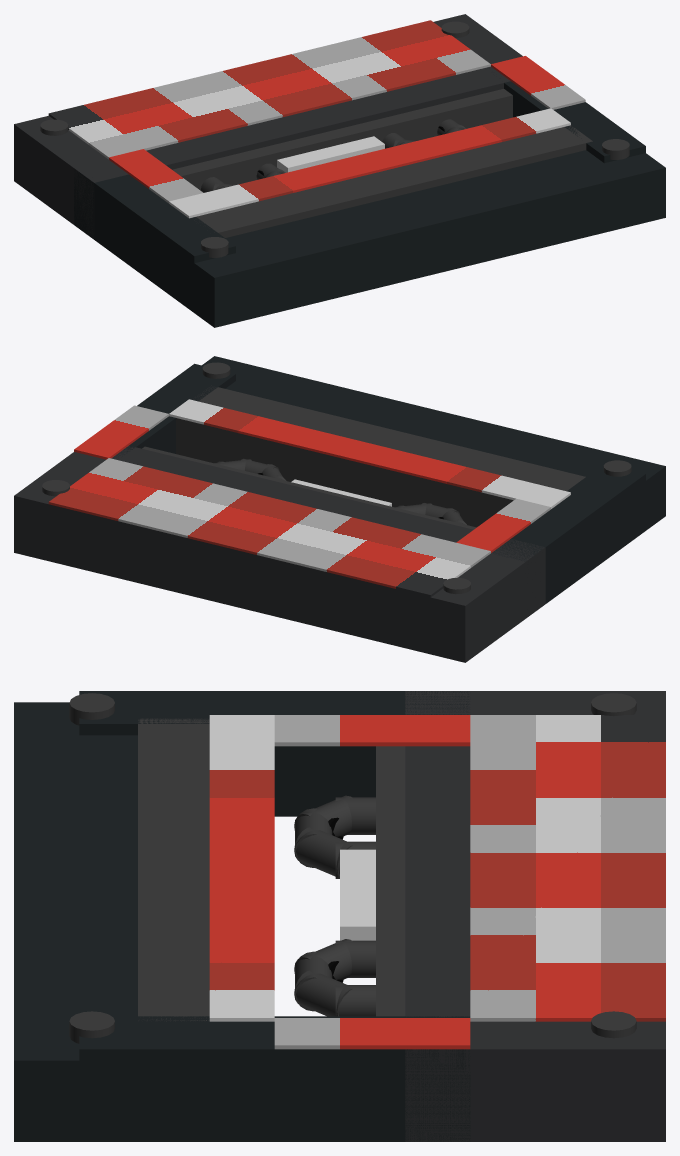
File: CMU3DHandAU14CassetteTapeRisingSunCloud.glb
3 renders of one model, top to bottom at view 1: azimuth 30°, elevation 25°; view 2: azimuth 150°, elevation 25°; view 3: azimuth 270°, elevation 25°, orthographic. The views are drawn at different scales.
Parts seen in each view (by area): view 1: cassette lower shell, original RisingSunLabelTop, cassette upper shell, cassette center lower rail, cassette left wall, original RisingSunLabelBottom, cassette center upper rail, cassette right wall, original RisingSunLabelRight, original RisingSunLabelLeft, tape bridge strip, cassette corner screw 9.7-20.8 (+1 smaller); view 2: cassette upper shell, original RisingSunLabelTop, cassette center lower rail, cassette lower shell, cassette left wall, original RisingSunLabelBottom, cassette right wall, original RisingSunLabelRight, original RisingSunLabelLeft, cassette center upper rail; view 3: original RisingSunLabelTop, cassette upper shell, cassette lower shell, cassette right wall, cassette center lower rail, original RisingSunLabelBottom, cassette left wall, cassette center upper rail, original RisingSunLabelLeft, original RisingSunLabelRight, tape bridge strip, reel bearing ring 18.1 08 (+12 smaller).
Boxes of the visible parts, box(x1,y1,x2,y2) form: cassette lower shell: box(174, 150, 665, 327); original RisingSunLabelTop: box(48, 20, 490, 159); cassette upper shell: box(14, 14, 522, 238); cassette center lower rail: box(194, 125, 592, 237); cassette left wall: box(74, 168, 235, 311); original RisingSunLabelBottom: box(169, 108, 570, 218); cassette center upper rail: box(172, 89, 512, 190); cassette right wall: box(487, 68, 645, 163); original RisingSunLabelRight: box(491, 56, 585, 109); original RisingSunLabelLeft: box(109, 149, 203, 203); tape bridge strip: box(277, 136, 384, 172); cassette corner screw 9.7-20.8: box(201, 237, 228, 257); cassette upper shell: box(14, 446, 545, 662); original RisingSunLabelTop: box(48, 458, 490, 597); cassette center lower rail: box(176, 385, 585, 527); cassette lower shell: box(202, 356, 665, 531); cassette left wall: box(492, 463, 645, 603); original RisingSunLabelBottom: box(169, 399, 570, 508); cassette right wall: box(112, 363, 235, 458); original RisingSunLabelRight: box(74, 405, 168, 459); original RisingSunLabelLeft: box(456, 498, 550, 552); cassette center upper rail: box(142, 446, 476, 529); original RisingSunLabelTop: box(470, 715, 665, 1021); cassette upper shell: box(405, 691, 665, 1141); cassette lower shell: box(14, 702, 144, 1141); cassette right wall: box(79, 1016, 470, 1141); cassette center lower rail: box(138, 718, 209, 1021); original RisingSunLabelBottom: box(209, 715, 274, 1021); cassette left wall: box(79, 691, 470, 816); cassette center upper rail: box(376, 746, 405, 1016); original RisingSunLabelLeft: box(274, 715, 470, 746); original RisingSunLabelRight: box(274, 1018, 470, 1049); tape bridge strip: box(340, 849, 375, 940); reel bearing ring 18.1 08: box(294, 970, 352, 1016).
Bounding box in the file's own units: 0.4062 × 0.053 × 0.3125.
9 materials, 4 textured.
